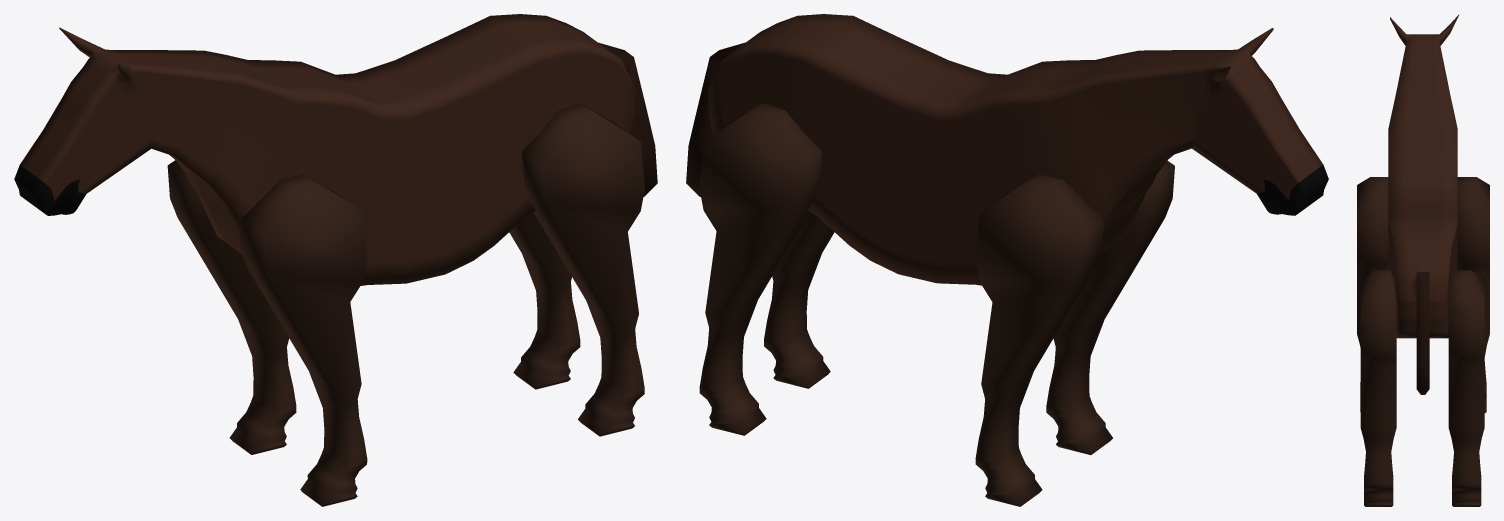
Rendered from horse3.obj.
3 views of the same model, side by side, from view 1: azimuth 30°, elevation 25°; view 2: azimuth 150°, elevation 25°; view 3: azimuth 270°, elevation 25° (orthographic). The views are drawn at different scales.
Parts seen in each view (by area): view 1: Cube, Cube.001; view 2: Cube, Cube.001; view 3: Cube.001, Cube.
Boxes of the visible parts, left/top/right/bottom form: Cube: left=14, top=14, right=657, bottom=285; Cube.001: left=167, top=103, right=644, bottom=506; Cube: left=686, top=14, right=1328, bottom=285; Cube.001: left=699, top=103, right=1174, bottom=506; Cube.001: left=1357, top=177, right=1489, bottom=506; Cube: left=1388, top=14, right=1459, bottom=394.
Bounding box in the file's own units: 8.86 × 6.4 × 2.37.
